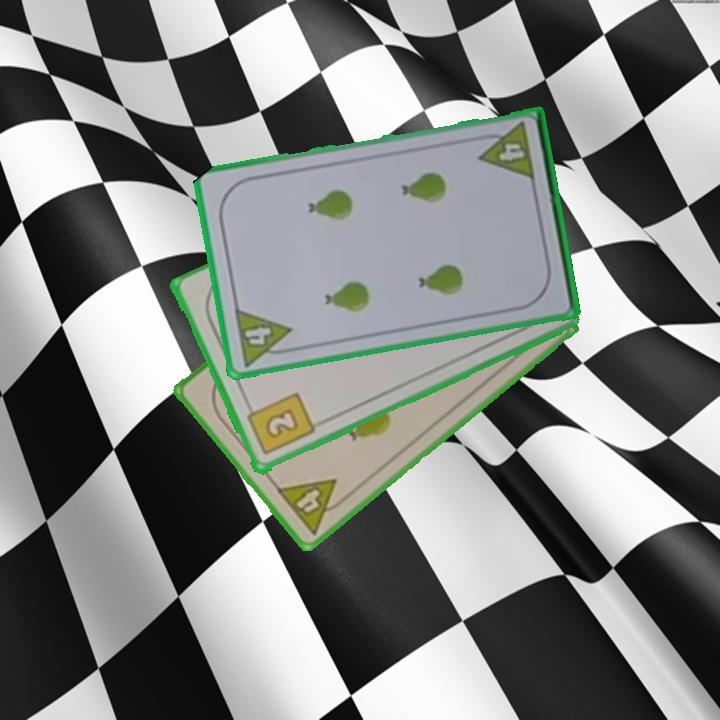2b: (242, 389, 317, 458)
4p: (272, 475, 353, 538), (473, 119, 538, 184), (231, 305, 297, 369)
